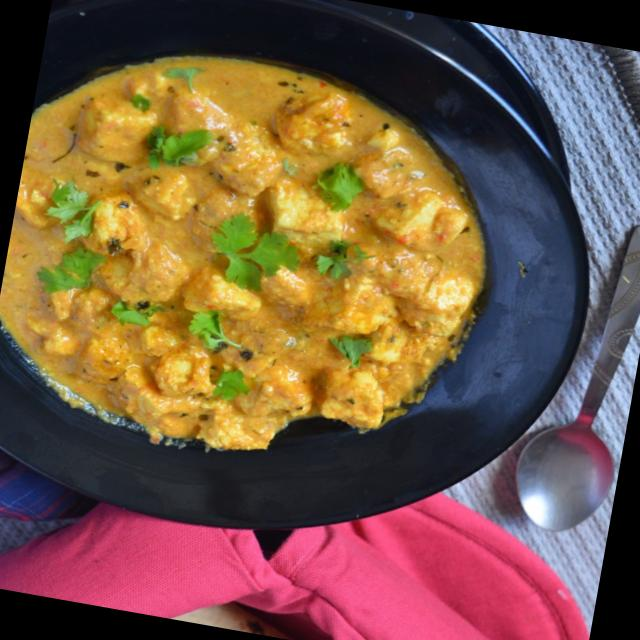ShahiPaneer: (0, 12, 511, 503)
